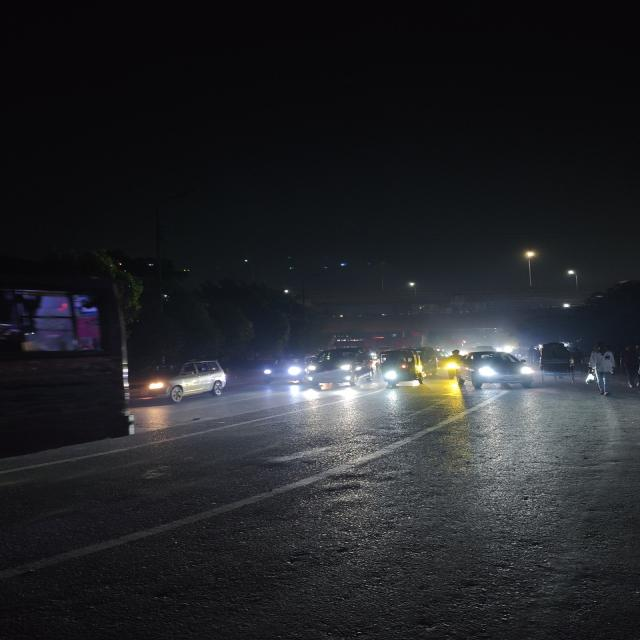bus: (1, 224, 130, 482)
car: (137, 358, 233, 410), (300, 346, 376, 391), (456, 348, 536, 390), (259, 356, 303, 384)
cng: (377, 346, 432, 388)
pedestrian: (588, 348, 615, 396), (619, 342, 640, 390)
rickshaw: (536, 340, 583, 386)
